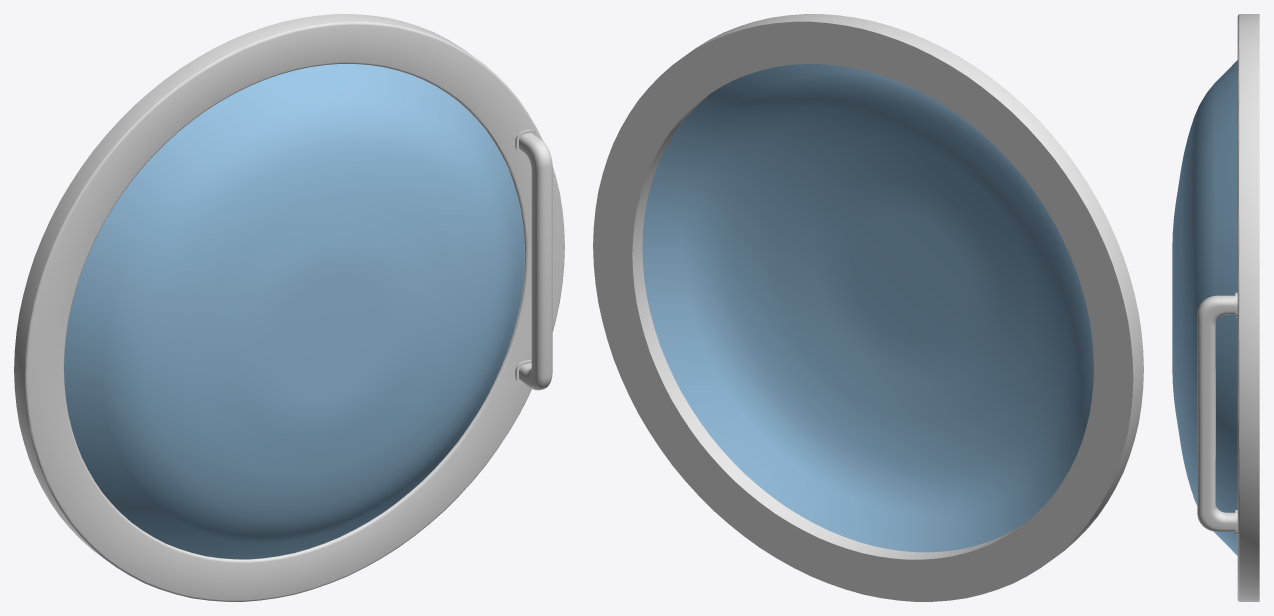
File: FBX_WasherDryer_Door.fbx
The picture shows the model from 3 angles, left to right: view 1: azimuth 30°, elevation 25°; view 2: azimuth 150°, elevation 25°; view 3: azimuth 270°, elevation 25°; orthographic projection. The views are drawn at different scales.
Parts seen in each view (by area): view 1: WasherDryer_Door; view 2: WasherDryer_Door; view 3: WasherDryer_Door.
Boxes of the visible parts, <box> form: WasherDryer_Door: <box>14,14,564,601</box>; WasherDryer_Door: <box>593,14,1143,601</box>; WasherDryer_Door: <box>1172,14,1259,601</box>.
Size of the model in its own units: 76.17 by 76.17 by 11.29.
